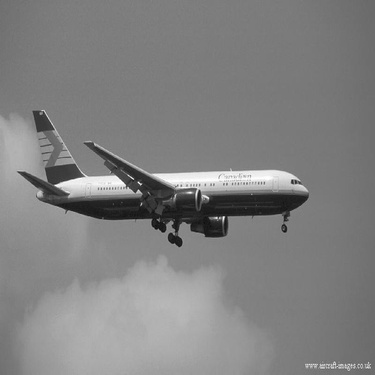airplane: (11, 91, 320, 263)
